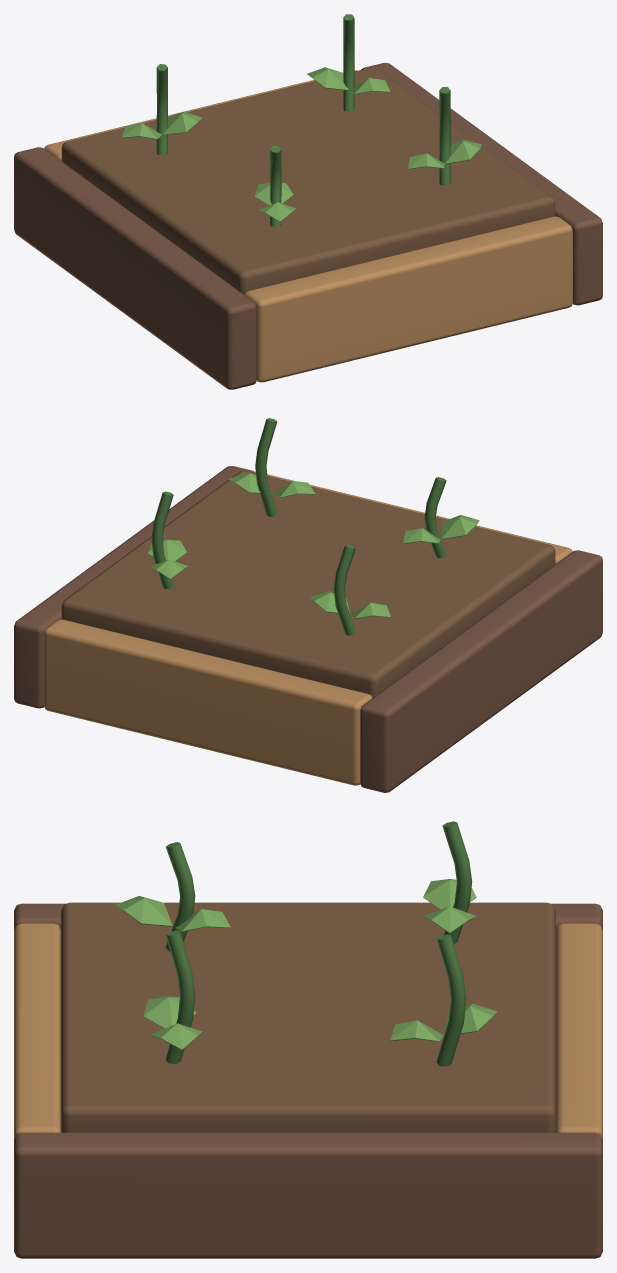
The model's file is garden.herb.melissa-sprout.glb.
3 views of the same model, one above another, from view 1: azimuth 30°, elevation 25°; view 2: azimuth 150°, elevation 25°; view 3: azimuth 270°, elevation 25° (orthographic). The views are drawn at different scales.
Parts seen in each view (by area): view 1: Cedar raised bed rail; view 2: Cedar raised bed rail; view 3: Cedar raised bed rail.
Part boxes in pixels (<box>): Cedar raised bed rail: <box>14,14,602,389</box>; Cedar raised bed rail: <box>14,418,602,792</box>; Cedar raised bed rail: <box>14,821,602,1258</box>.
Size of the model in its own units: 1 by 0.4927 by 1.
